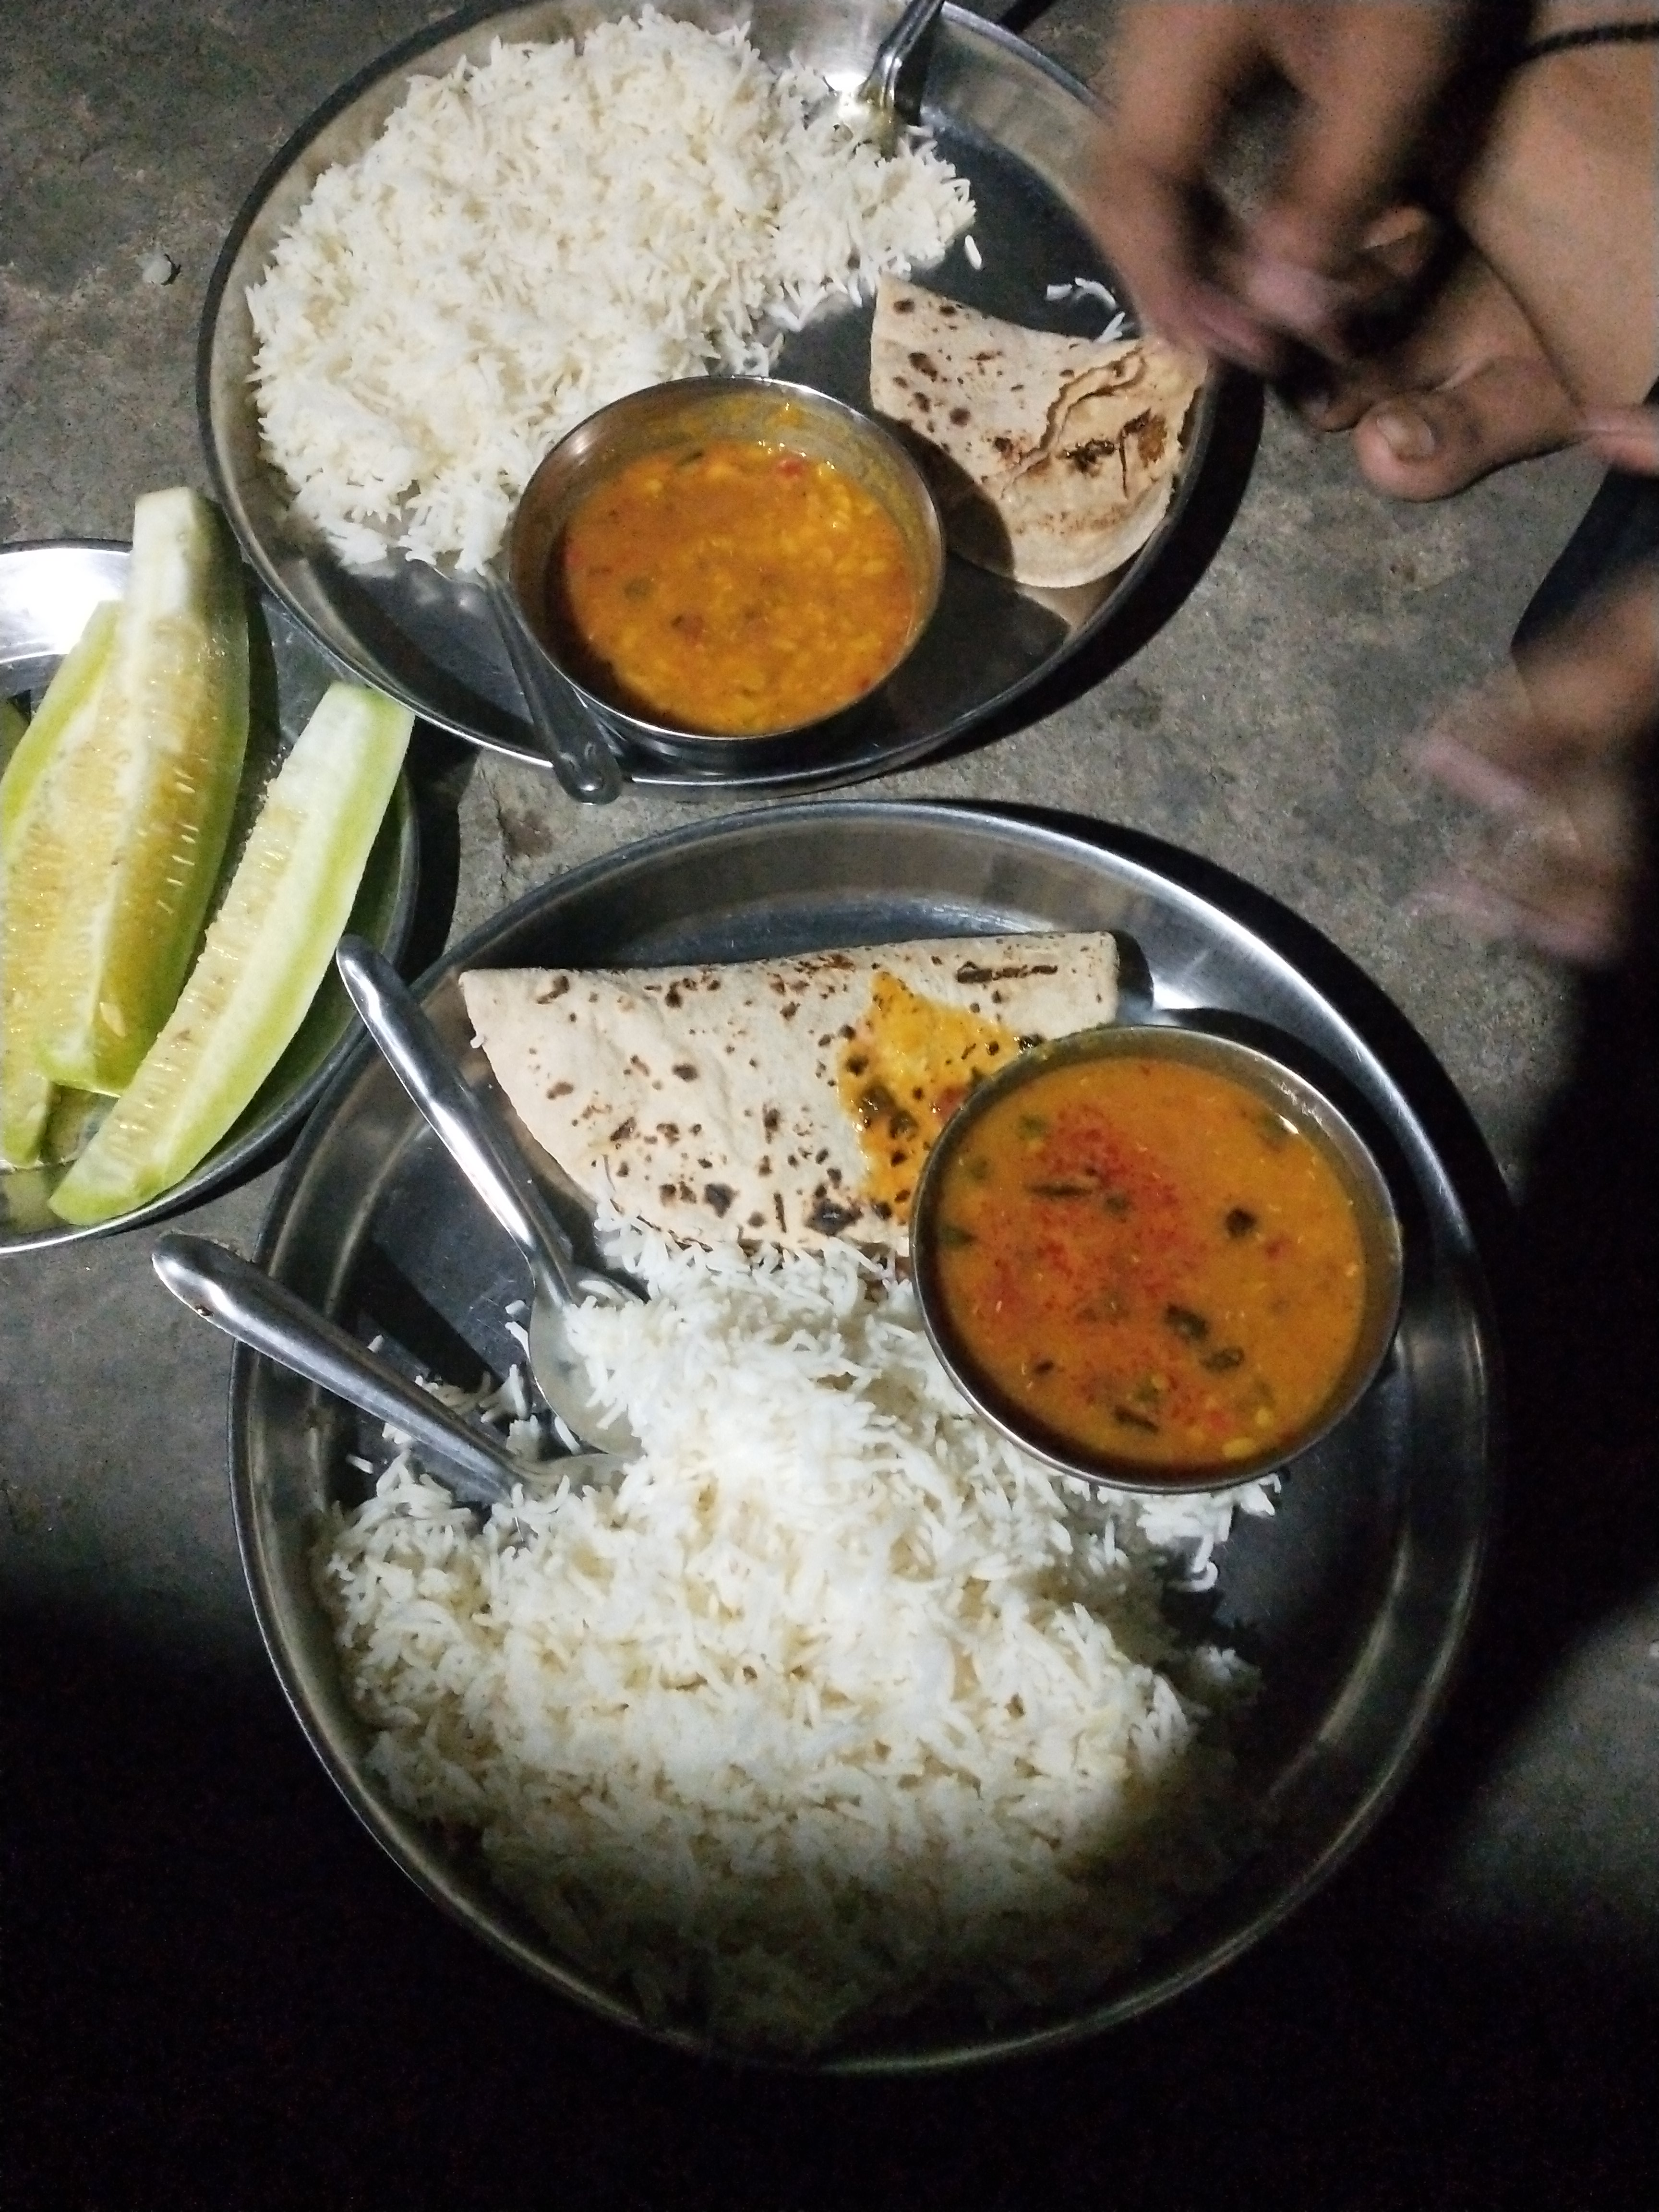food: (295, 916, 1389, 2069), (192, 0, 1222, 747), (0, 479, 432, 1247)
